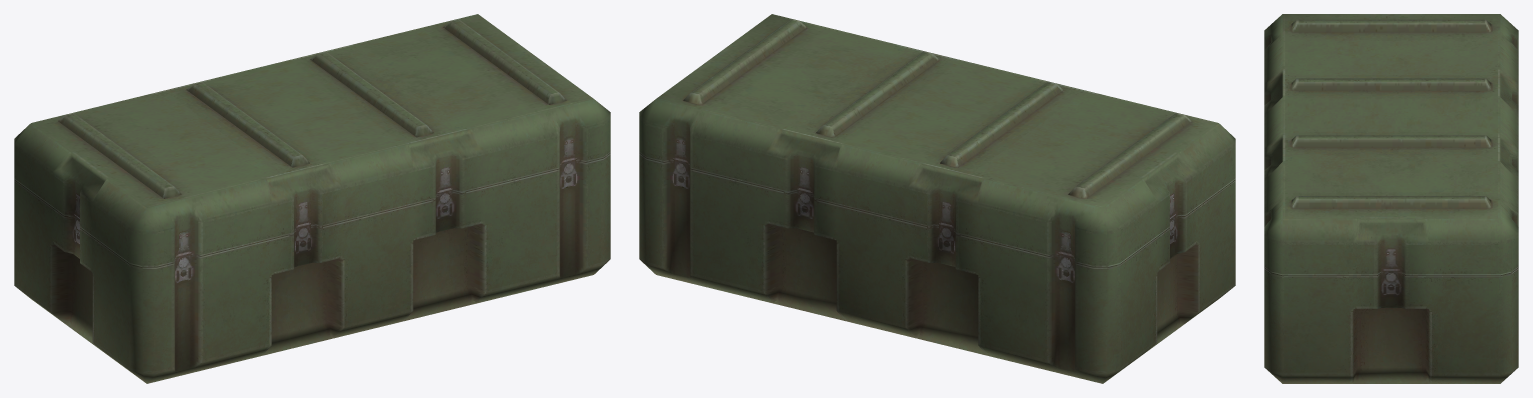
The model's file is 201_militarybox02a.fbx.
The picture shows the model from 3 angles, left to right: view 1: azimuth 30°, elevation 25°; view 2: azimuth 150°, elevation 25°; view 3: azimuth 270°, elevation 25°; orthographic projection. The views are drawn at different scales.
Visible parts, largest first — view 1: LOD_1_Group_0_Sub_1__sm32_201_MilitaryBox02A_A_Mat; view 2: LOD_1_Group_0_Sub_1__sm32_201_MilitaryBox02A_A_Mat; view 3: LOD_1_Group_0_Sub_1__sm32_201_MilitaryBox02A_A_Mat.
Boxes of the visible parts, left/top/right/bottom form: LOD_1_Group_0_Sub_1__sm32_201_MilitaryBox02A_A_Mat: left=14, top=14, right=610, bottom=383; LOD_1_Group_0_Sub_1__sm32_201_MilitaryBox02A_A_Mat: left=639, top=14, right=1235, bottom=383; LOD_1_Group_0_Sub_1__sm32_201_MilitaryBox02A_A_Mat: left=1264, top=14, right=1518, bottom=383.
Bounding box in the file's own units: 1.09 × 0.395 × 0.53.
